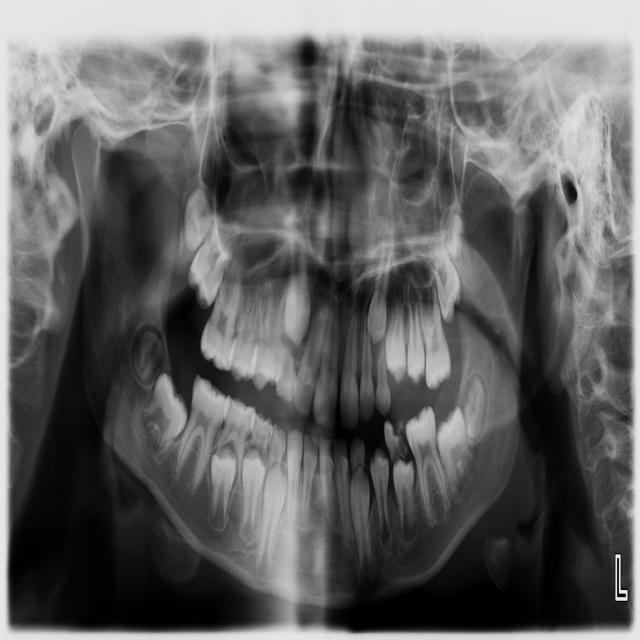mandibula: (71, 121, 534, 611)
